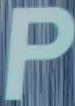Parking: (5, 2, 67, 98)
